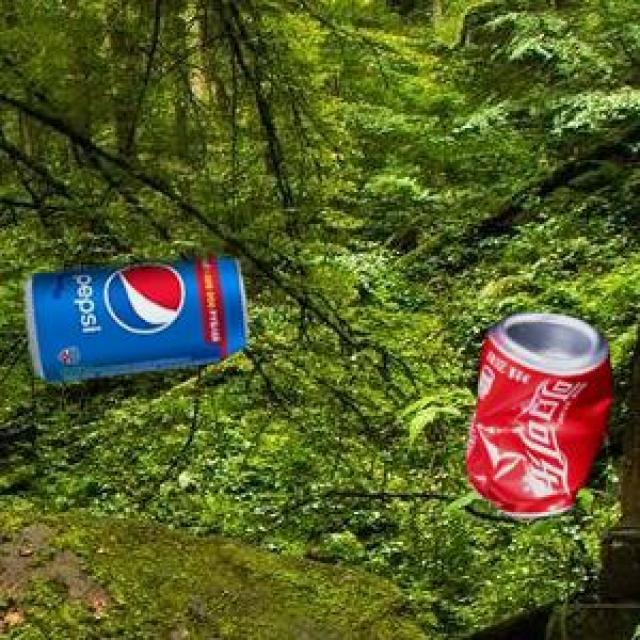Can: (464, 310, 609, 515), (22, 255, 244, 379)
